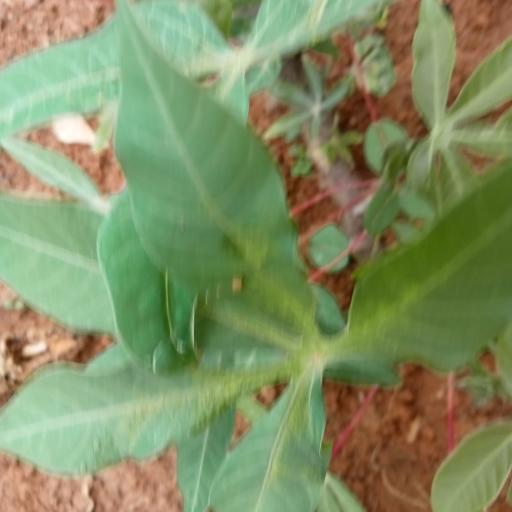Cassava_Mosaic: (4, 46, 507, 512)
